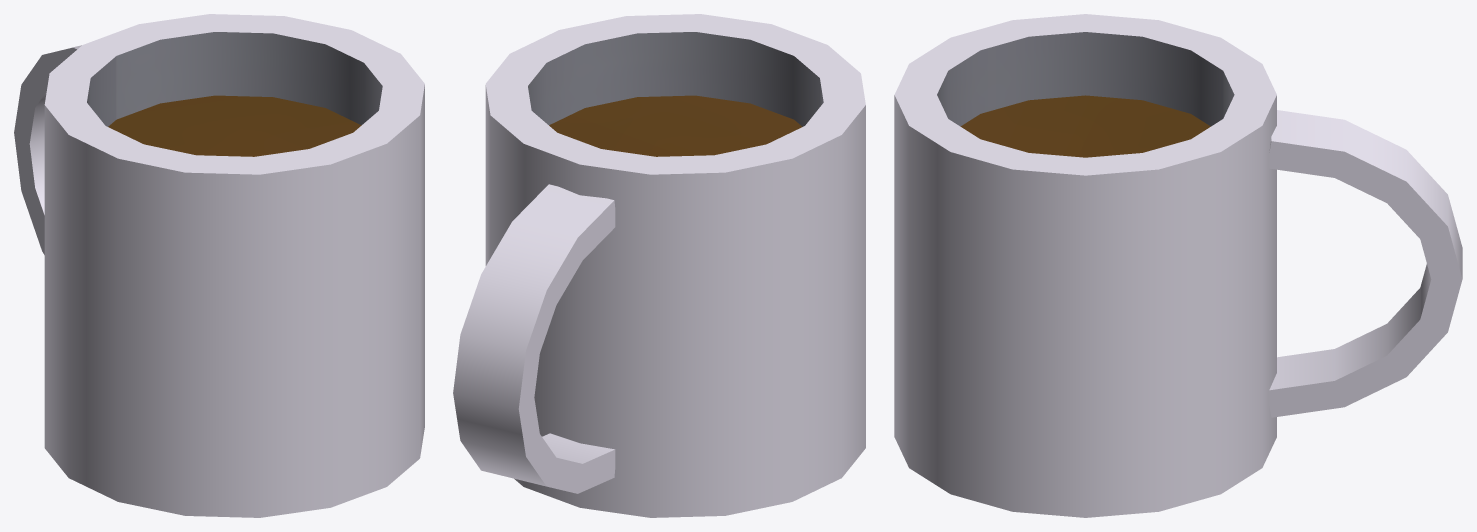
File: SM_Props_Food_11.fbx
3 renders of one model, left to right at view 1: azimuth 30°, elevation 25°; view 2: azimuth 150°, elevation 25°; view 3: azimuth 270°, elevation 25°, orthographic.
Visible parts, largest first — view 1: SM_Props_Food_11; view 2: SM_Props_Food_11; view 3: SM_Props_Food_11.
Part boxes in pixels (x1,y1,x2,y2): SM_Props_Food_11: [14, 14, 424, 517]; SM_Props_Food_11: [453, 14, 865, 517]; SM_Props_Food_11: [894, 14, 1462, 517].
Size of the model in its own units: 0.1537 by 0.1518 by 0.2283.
